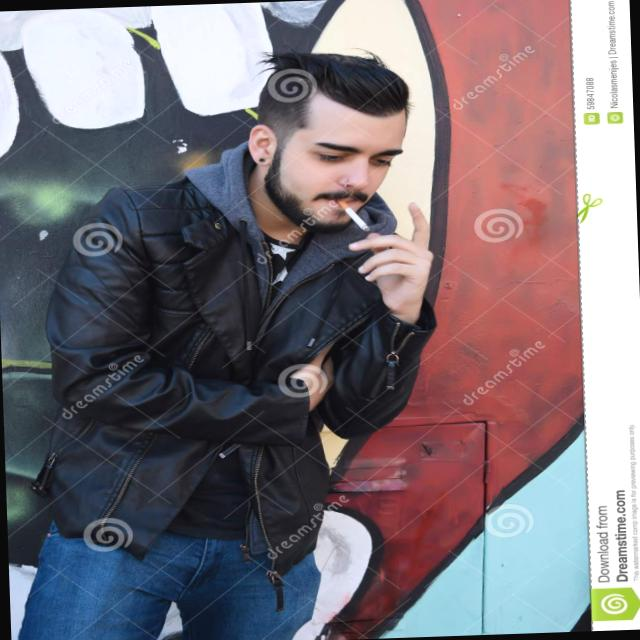smoke: (328, 195, 379, 248)
